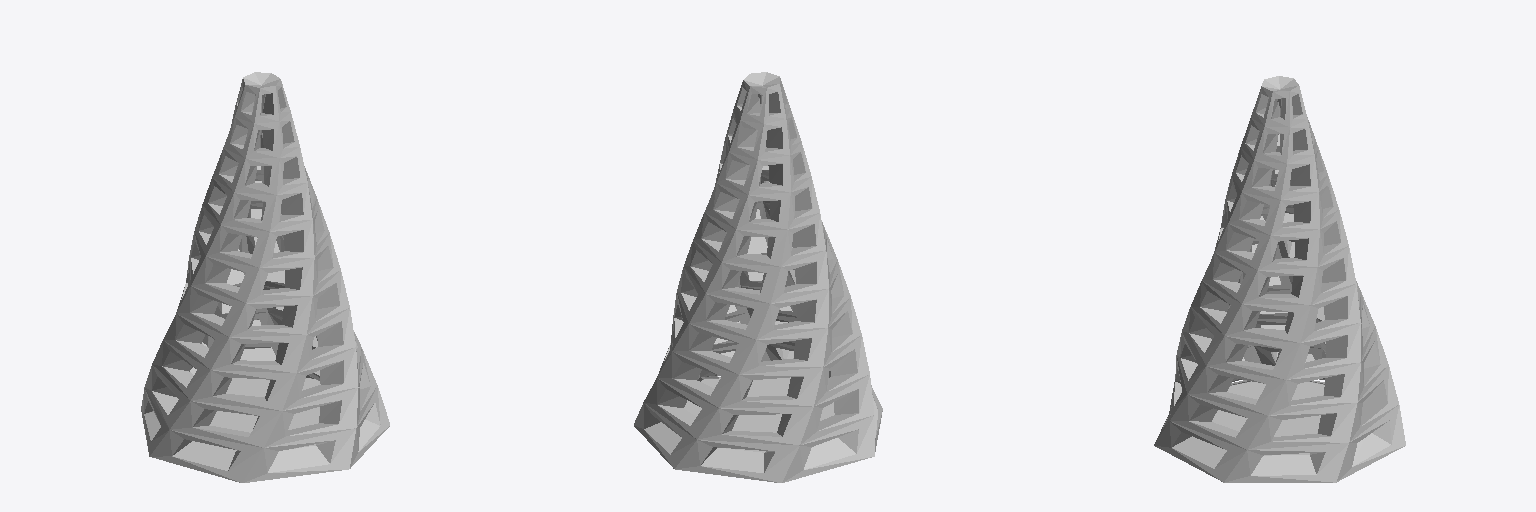
File: shapeshifter-tree.obj
3 views of the same model, side by side, from view 1: azimuth 30°, elevation 25°; view 2: azimuth 150°, elevation 25°; view 3: azimuth 270°, elevation 25° (orthographic).
Visible parts, largest first — view 1: shapeshifter-tree; view 2: shapeshifter-tree; view 3: shapeshifter-tree.
Boxes of the visible parts, x1,y1,x2,y2 form: shapeshifter-tree: [141, 72, 389, 482]; shapeshifter-tree: [634, 72, 882, 482]; shapeshifter-tree: [1154, 76, 1405, 482].
Size of the model in its own units: 15.97 by 25 by 16.38.